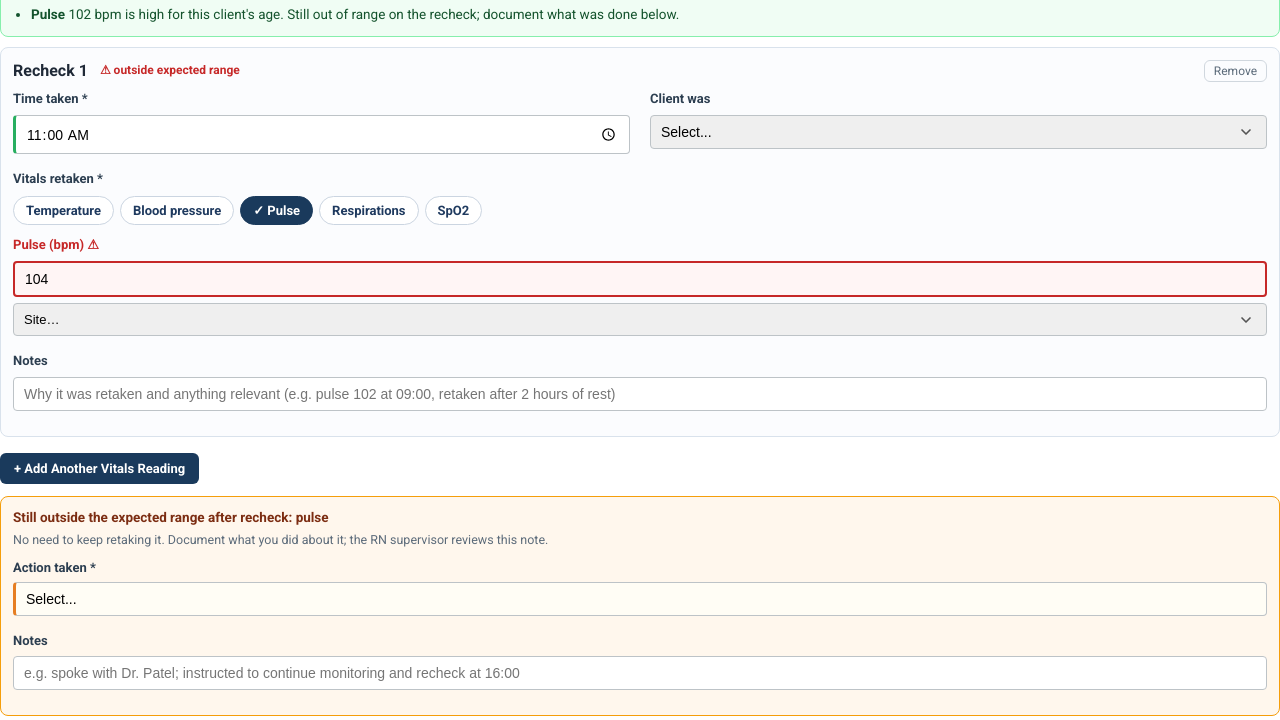
Test: VitalsRecheckSection › a recheck still out of range asks what was done, and a baseline claim asks for the baseline
(page scrolled)
Expected: the text "Still outside the expected range after recheck: pulse" is shown, [13,509,329,525]
Select "Notified RN supervisor" in the dropdown labelled "Action taken *": [640, 600] box [13,582,1267,616]
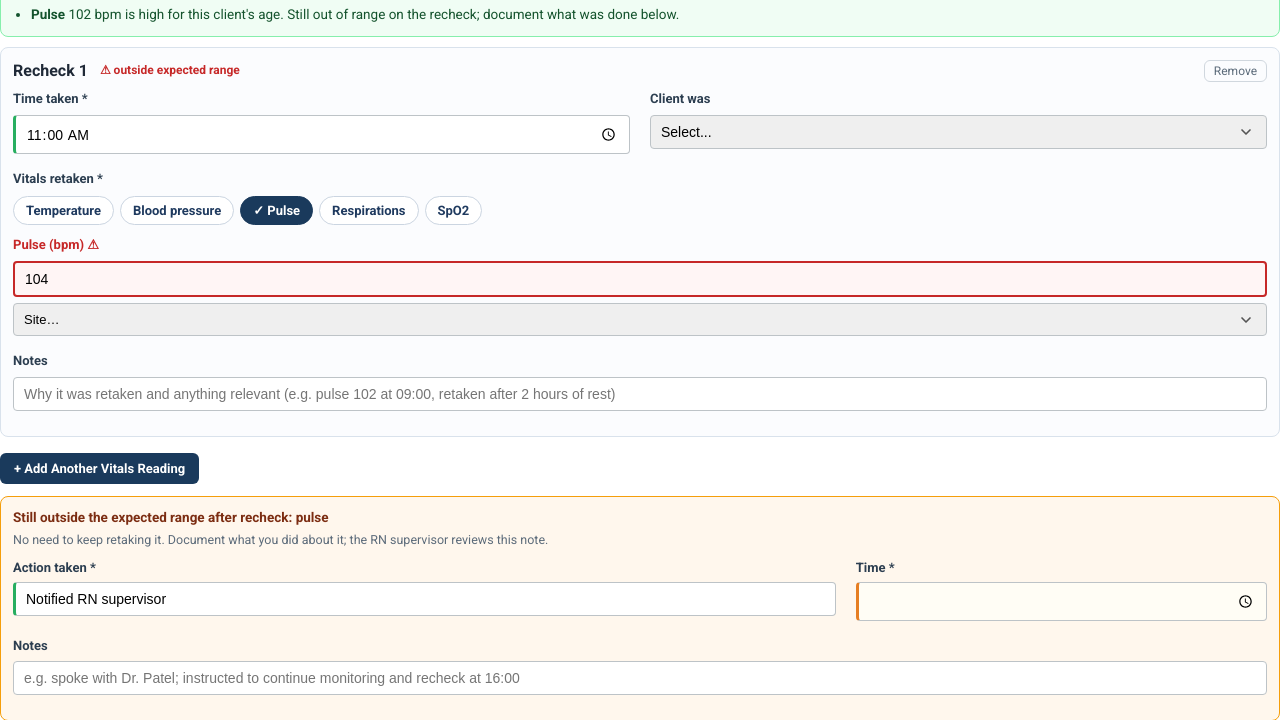
Expected: the time field labelled "Time *" is shown, [856,582,1267,621]
Select "Within this client's known baseline per care plan" in the dropdown labelled "Action taken *": [424, 600] box [13,582,836,616]
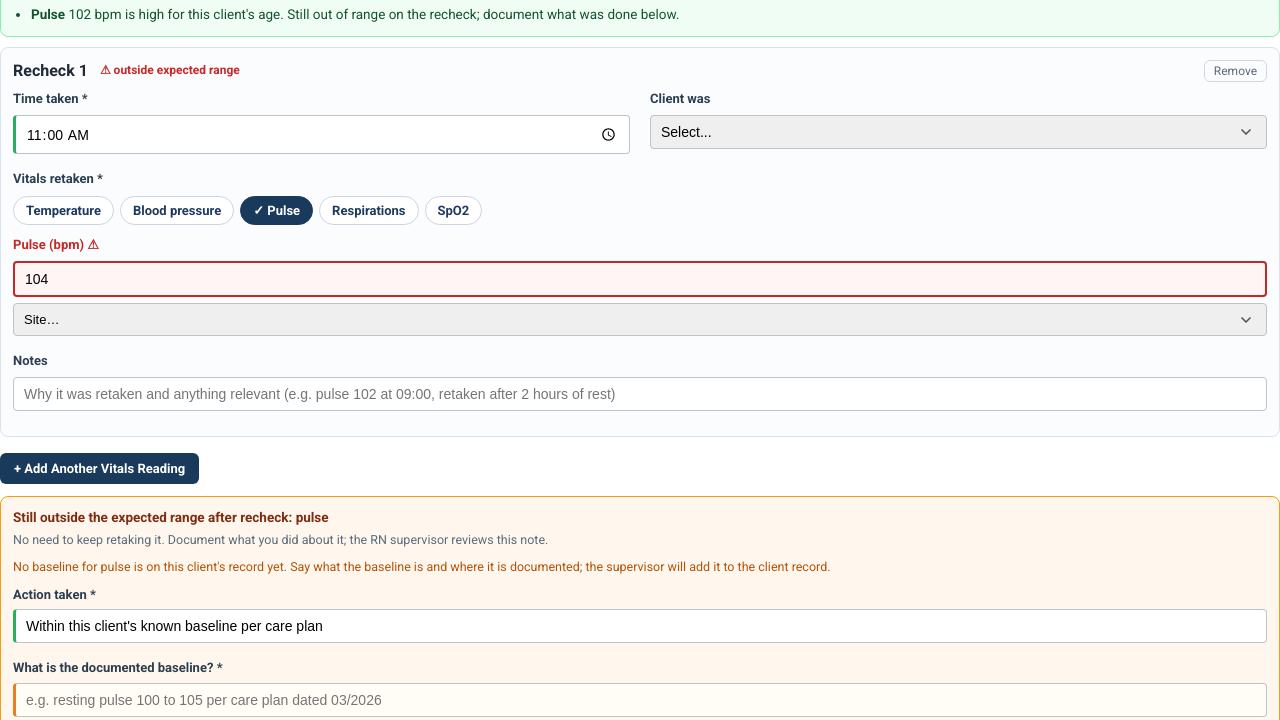
Expected: the field labelled "What is the documented baseline? *" is shown, [13,683,1267,717]
Expected: the label labelled "Time *" is gone
